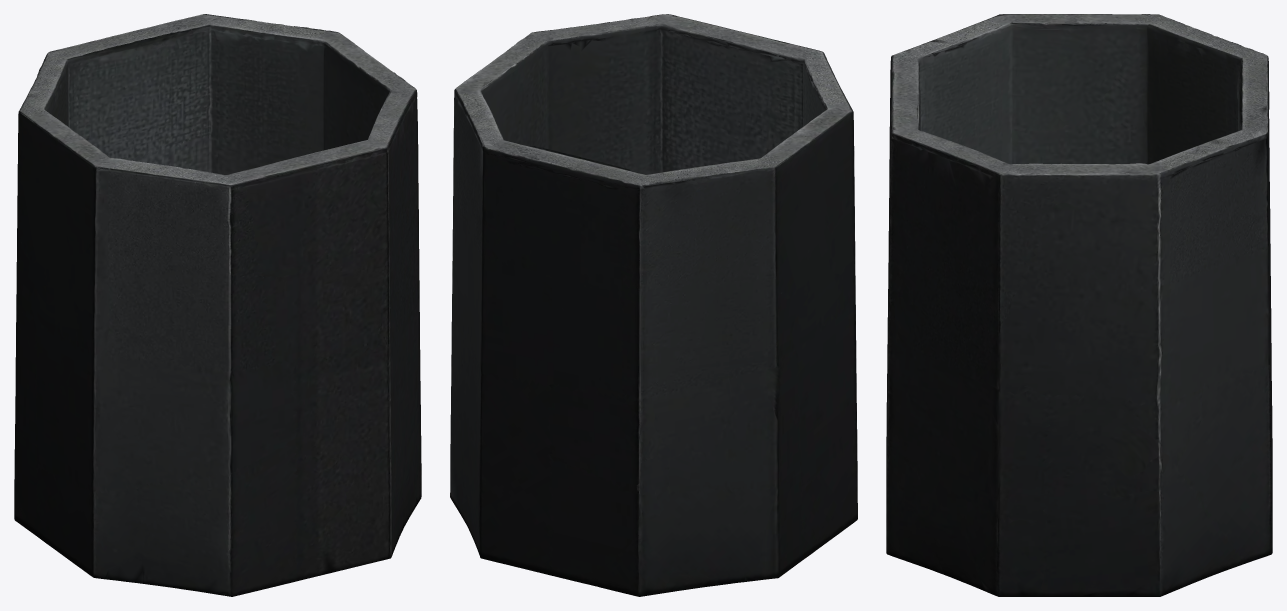
Rendered from hexagonal.glb.
3 renders of one model, left to right at view 1: azimuth 30°, elevation 25°; view 2: azimuth 150°, elevation 25°; view 3: azimuth 270°, elevation 25°, orthographic. The views are drawn at different scales.
Visible parts, largest first — view 1: tripo_node_887add3a-bb0c-4bf6-92ff-d09566d11f9e; view 2: tripo_node_887add3a-bb0c-4bf6-92ff-d09566d11f9e; view 3: tripo_node_887add3a-bb0c-4bf6-92ff-d09566d11f9e.
Part boxes in pixels (x1,y1,x2,y2): tripo_node_887add3a-bb0c-4bf6-92ff-d09566d11f9e: (14, 14, 421, 596); tripo_node_887add3a-bb0c-4bf6-92ff-d09566d11f9e: (450, 14, 857, 596); tripo_node_887add3a-bb0c-4bf6-92ff-d09566d11f9e: (886, 14, 1272, 596).
Size of the model in its own units: 0.8227 by 0.9839 by 0.8153.
1 material, 1 textured.
